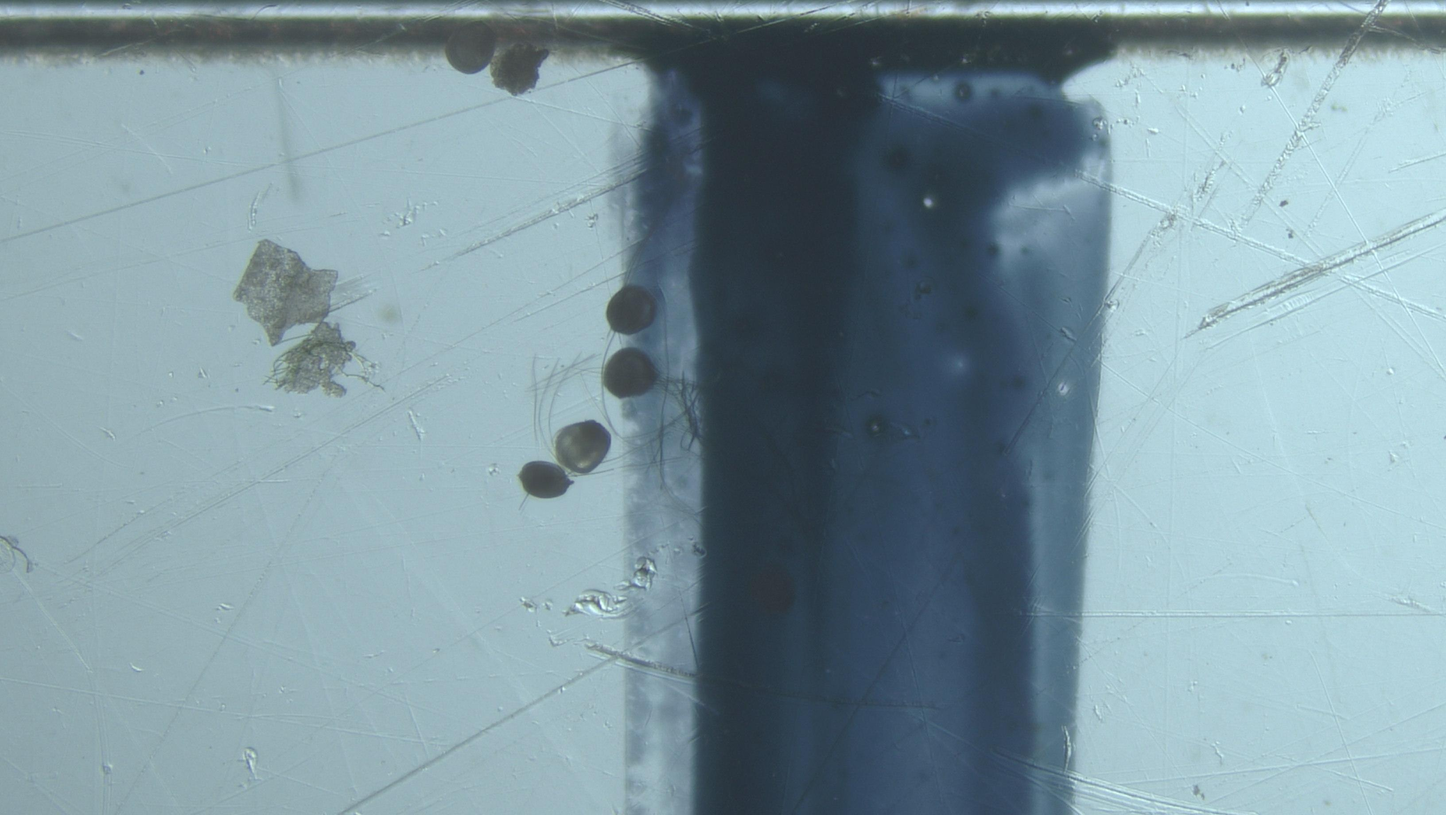live: (555, 420, 611, 473), (603, 348, 658, 398), (445, 23, 497, 74), (606, 286, 657, 335), (751, 564, 795, 616), (519, 462, 573, 498)
